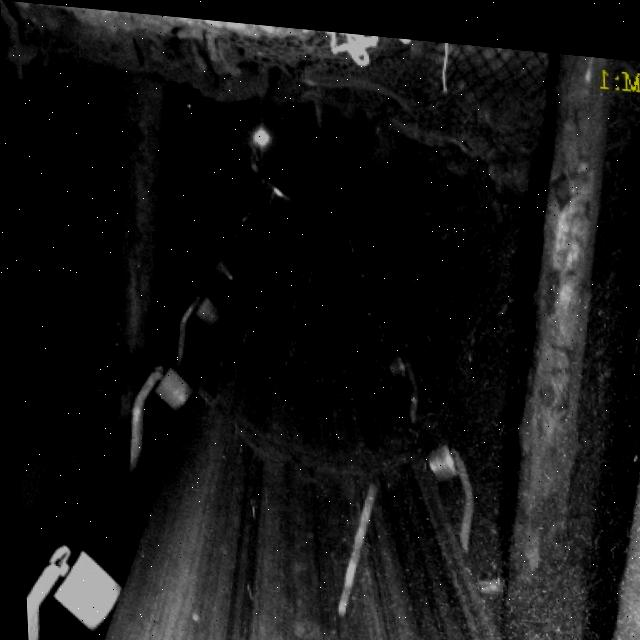bolt: (326, 472, 376, 610)
